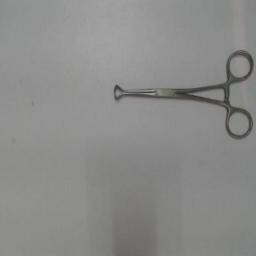Babcock Tissue Forceps: (111, 47, 255, 143)
